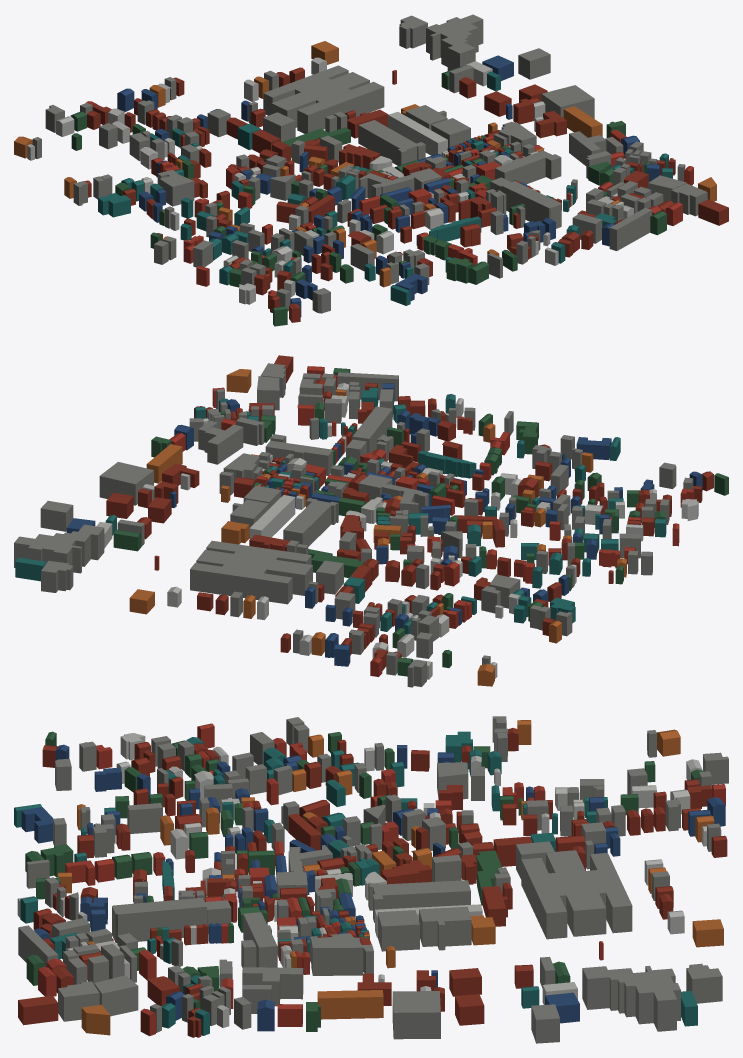
The model's file is near-16-54720-29731.eb8ac7b4.glb.
The picture shows the model from 3 angles, top to bottom: view 1: azimuth 30°, elevation 25°; view 2: azimuth 150°, elevation 25°; view 3: azimuth 270°, elevation 25°; orthographic projection. The views are drawn at different scales.
Bounding box in the file's own units: 606 × 43.5 × 599.
